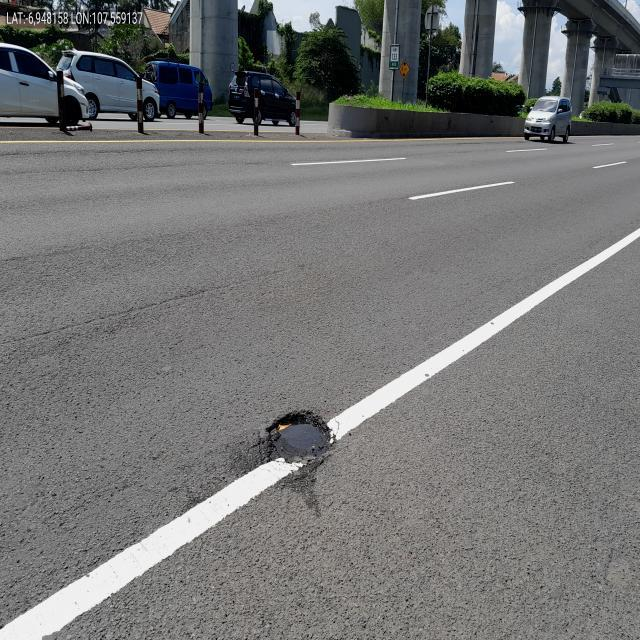Buraco: (263, 407, 340, 467)
